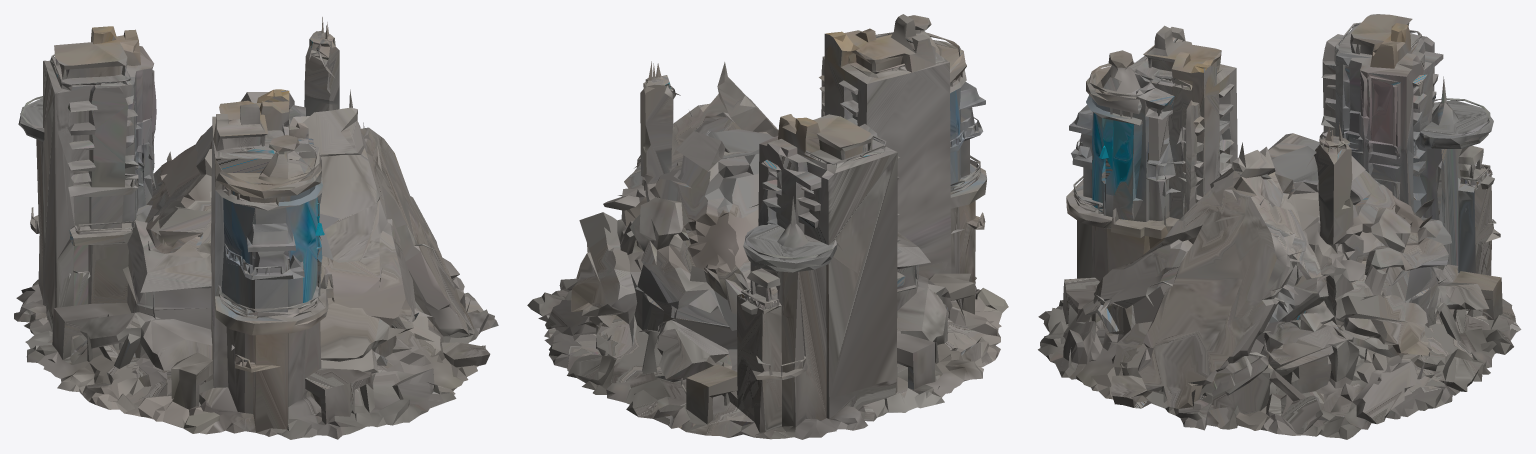
3 views of the same model, side by side, from view 1: azimuth 30°, elevation 25°; view 2: azimuth 150°, elevation 25°; view 3: azimuth 270°, elevation 25° (orthographic). The views are drawn at different scales.
Parts seen in each view (by area): view 1: k11; view 2: k11; view 3: k11.
Part boxes in pixels (x1=…): k11: x1=14, y1=17, x2=498, y2=439; k11: x1=527, y1=14, x2=1008, y2=439; k11: x1=1038, y1=14, x2=1521, y2=439.
Size of the model in its own units: 18.05 by 12 by 18.83.
Materials: 1 (1 with a texture image).
